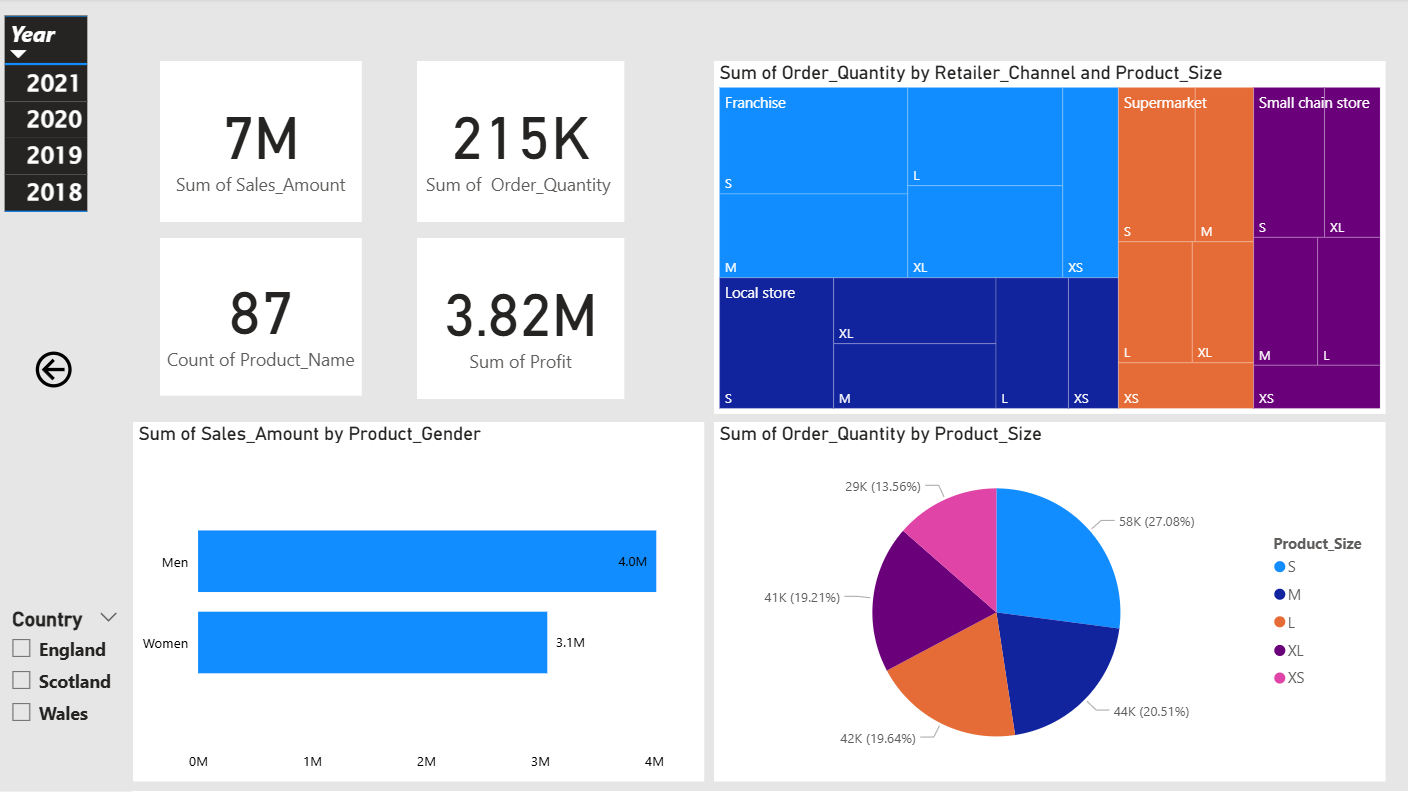

This screenshot's page, from the dashboard's own definition file:
{"tool":"powerbi","page":{"name":"Dash 1","canvas":[1280,720],"ordinal":1},"visuals":[{"type":"tableEx","fields":{"Values":["Orders.Order_Date.Variation.Date Hierarchy.Year"]},"box":[0,10.6,89.6,226.1],"z":0},{"type":"slicer","fields":{"Values":["Retailers.Country"]},"box":[0,548,120.6,172],"z":1000},{"type":"treemap","fields":{"Group":["Retailers.Retailer_Channel","Products.Product_Size"],"Details":["Products.Product_Size"],"Values":["Sum(Orders. Order_Quantity )"]},"box":[649.1,56.7,609.2,320.1],"z":2000},{"type":"pieChart","fields":{"Category":["Products.Product_Size"],"Y":["Sum(Orders. Order_Quantity )"]},"box":[649.1,384.8,609.2,326.3],"z":3000},{"type":"card","fields":{"Values":["Sum(Orders.Sales_Amount)"]},"box":[147.2,56.7,182.7,146.3],"z":4000},{"type":"clusteredBarChart","fields":{"Category":["Products.Product_Gender"],"Y":["Sum(Orders.Sales_Amount)"]},"box":[122.4,384.8,517.8,326.3],"z":5000},{"type":"card","fields":{"Values":["Sum(Orders. Order_Quantity )"]},"box":[379.5,56.7,188,146.3],"z":6000},{"type":"card","fields":{"Values":["Count(Products.Product_Name)"]},"box":[147.2,217.2,182.7,142.8],"z":7000},{"type":"card","fields":{"Values":["Sum(Orders.Profit)"]},"box":[379.5,217.2,188,146.3],"z":8000},{"type":"actionButton","box":[0,307.7,100.2,55.9],"z":9000}]}

Visuals, with their boxes in screenshot pixels (x1, y1, x2, y2), scaled from the page's 1280x720 canvas onto the 1408x792 screenshot:
tableEx - Orders.Order_Date.Variation.Date Hierarchy.Year: box=[0, 12, 99, 260]
slicer - Retailers.Country: box=[0, 603, 133, 791]
treemap - Retailers.Retailer_Channel x Products.Product_Size: box=[714, 62, 1384, 414]
pieChart - Products.Product_Size x Sum(Orders. Order_Quantity ): box=[714, 423, 1384, 782]
card - Sum(Orders.Sales_Amount): box=[162, 62, 363, 223]
clusteredBarChart - Products.Product_Gender x Sum(Orders.Sales_Amount): box=[135, 423, 704, 782]
card - Sum(Orders. Order_Quantity ): box=[417, 62, 624, 223]
card - Count(Products.Product_Name): box=[162, 239, 363, 396]
card - Sum(Orders.Profit): box=[417, 239, 624, 400]
actionButton: box=[0, 338, 110, 400]
